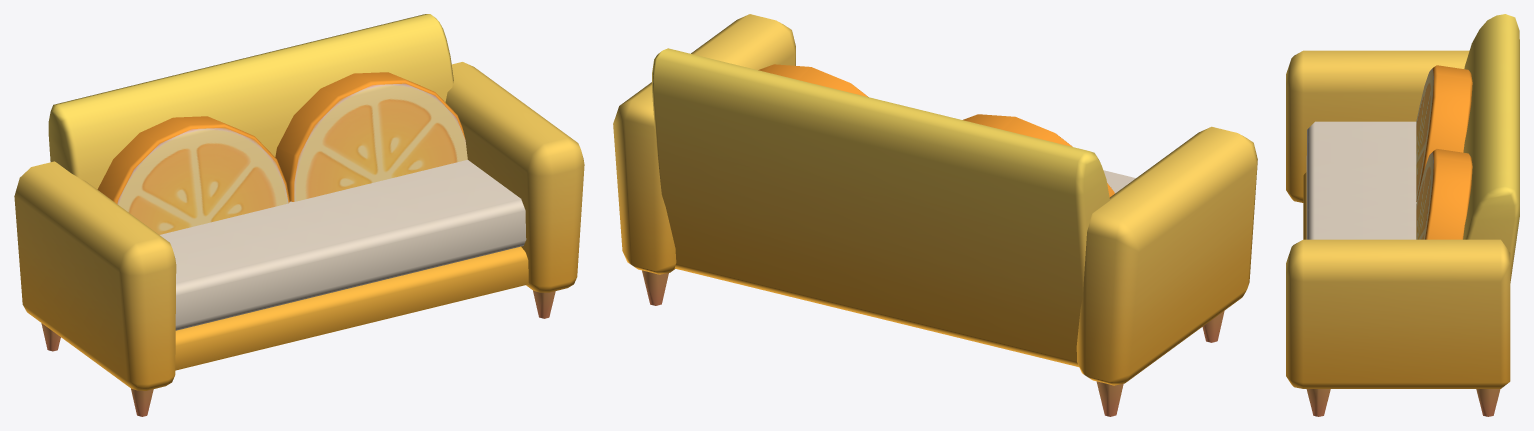
Rendered from Homestead_nm_19.fbx.
3 views of the same model, side by side, from view 1: azimuth 30°, elevation 25°; view 2: azimuth 150°, elevation 25°; view 3: azimuth 270°, elevation 25° (orthographic). The views are drawn at different scales.
Visible parts, largest first — view 1: Homestead_nm_19; view 2: Homestead_nm_19; view 3: Homestead_nm_19.
Part boxes in pixels (bbox=[...]): Homestead_nm_19: bbox=[14, 14, 584, 416]; Homestead_nm_19: bbox=[613, 14, 1257, 416]; Homestead_nm_19: bbox=[1286, 14, 1519, 416].
Size of the model in its own units: 389 by 187 by 178.
